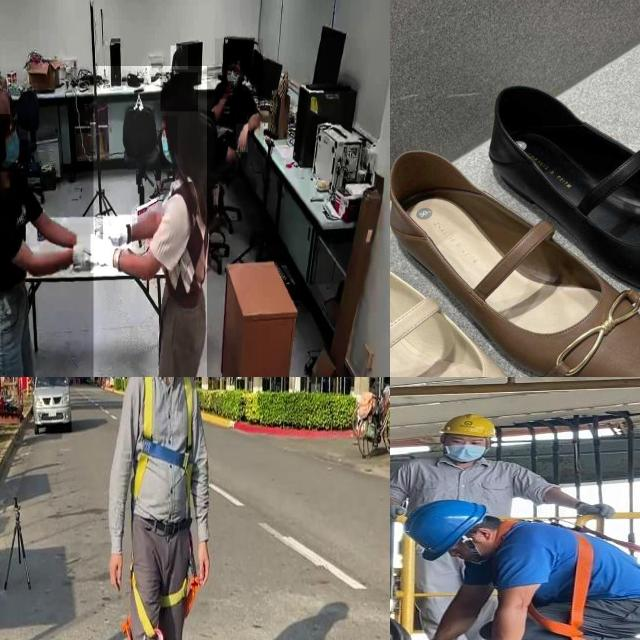Harness: (478, 517, 619, 640), (134, 377, 195, 502), (132, 569, 165, 640)
Sandals: (390, 136, 640, 377), (478, 69, 640, 332), (390, 193, 571, 377)
face_mask: (0, 119, 27, 171), (160, 116, 178, 169), (222, 62, 242, 94)
hand_glove: (69, 223, 91, 282), (90, 234, 118, 274), (103, 214, 132, 248)
hand_noglove: (236, 124, 248, 153), (221, 81, 235, 100)
head_nohelmet: (160, 72, 198, 112), (170, 46, 188, 70), (222, 44, 245, 60), (0, 78, 10, 114)
person: (93, 66, 207, 377), (0, 67, 89, 377), (215, 38, 263, 175)
